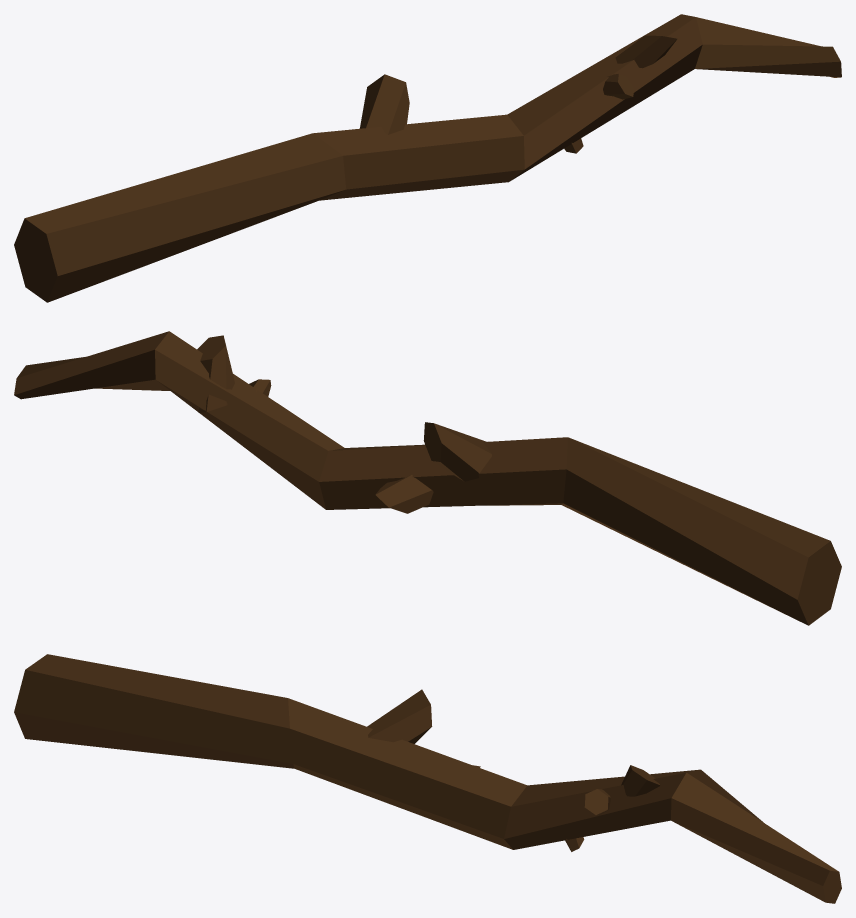
Rendered from Tree_FallUV.fbx.
3 views of the same model, one above another, from view 1: azimuth 30°, elevation 25°; view 2: azimuth 150°, elevation 25°; view 3: azimuth 330°, elevation 25° (orthographic).
Parts seen in each view (by area): view 1: Cylinder.003; view 2: Cylinder.003; view 3: Cylinder.003.
Part boxes in pixels (<box>): Cylinder.003: <box>14,14,841,302</box>; Cylinder.003: <box>14,331,841,625</box>; Cylinder.003: <box>14,654,841,903</box>.
Size of the model in its own units: 377 by 57.04 by 49.15.
